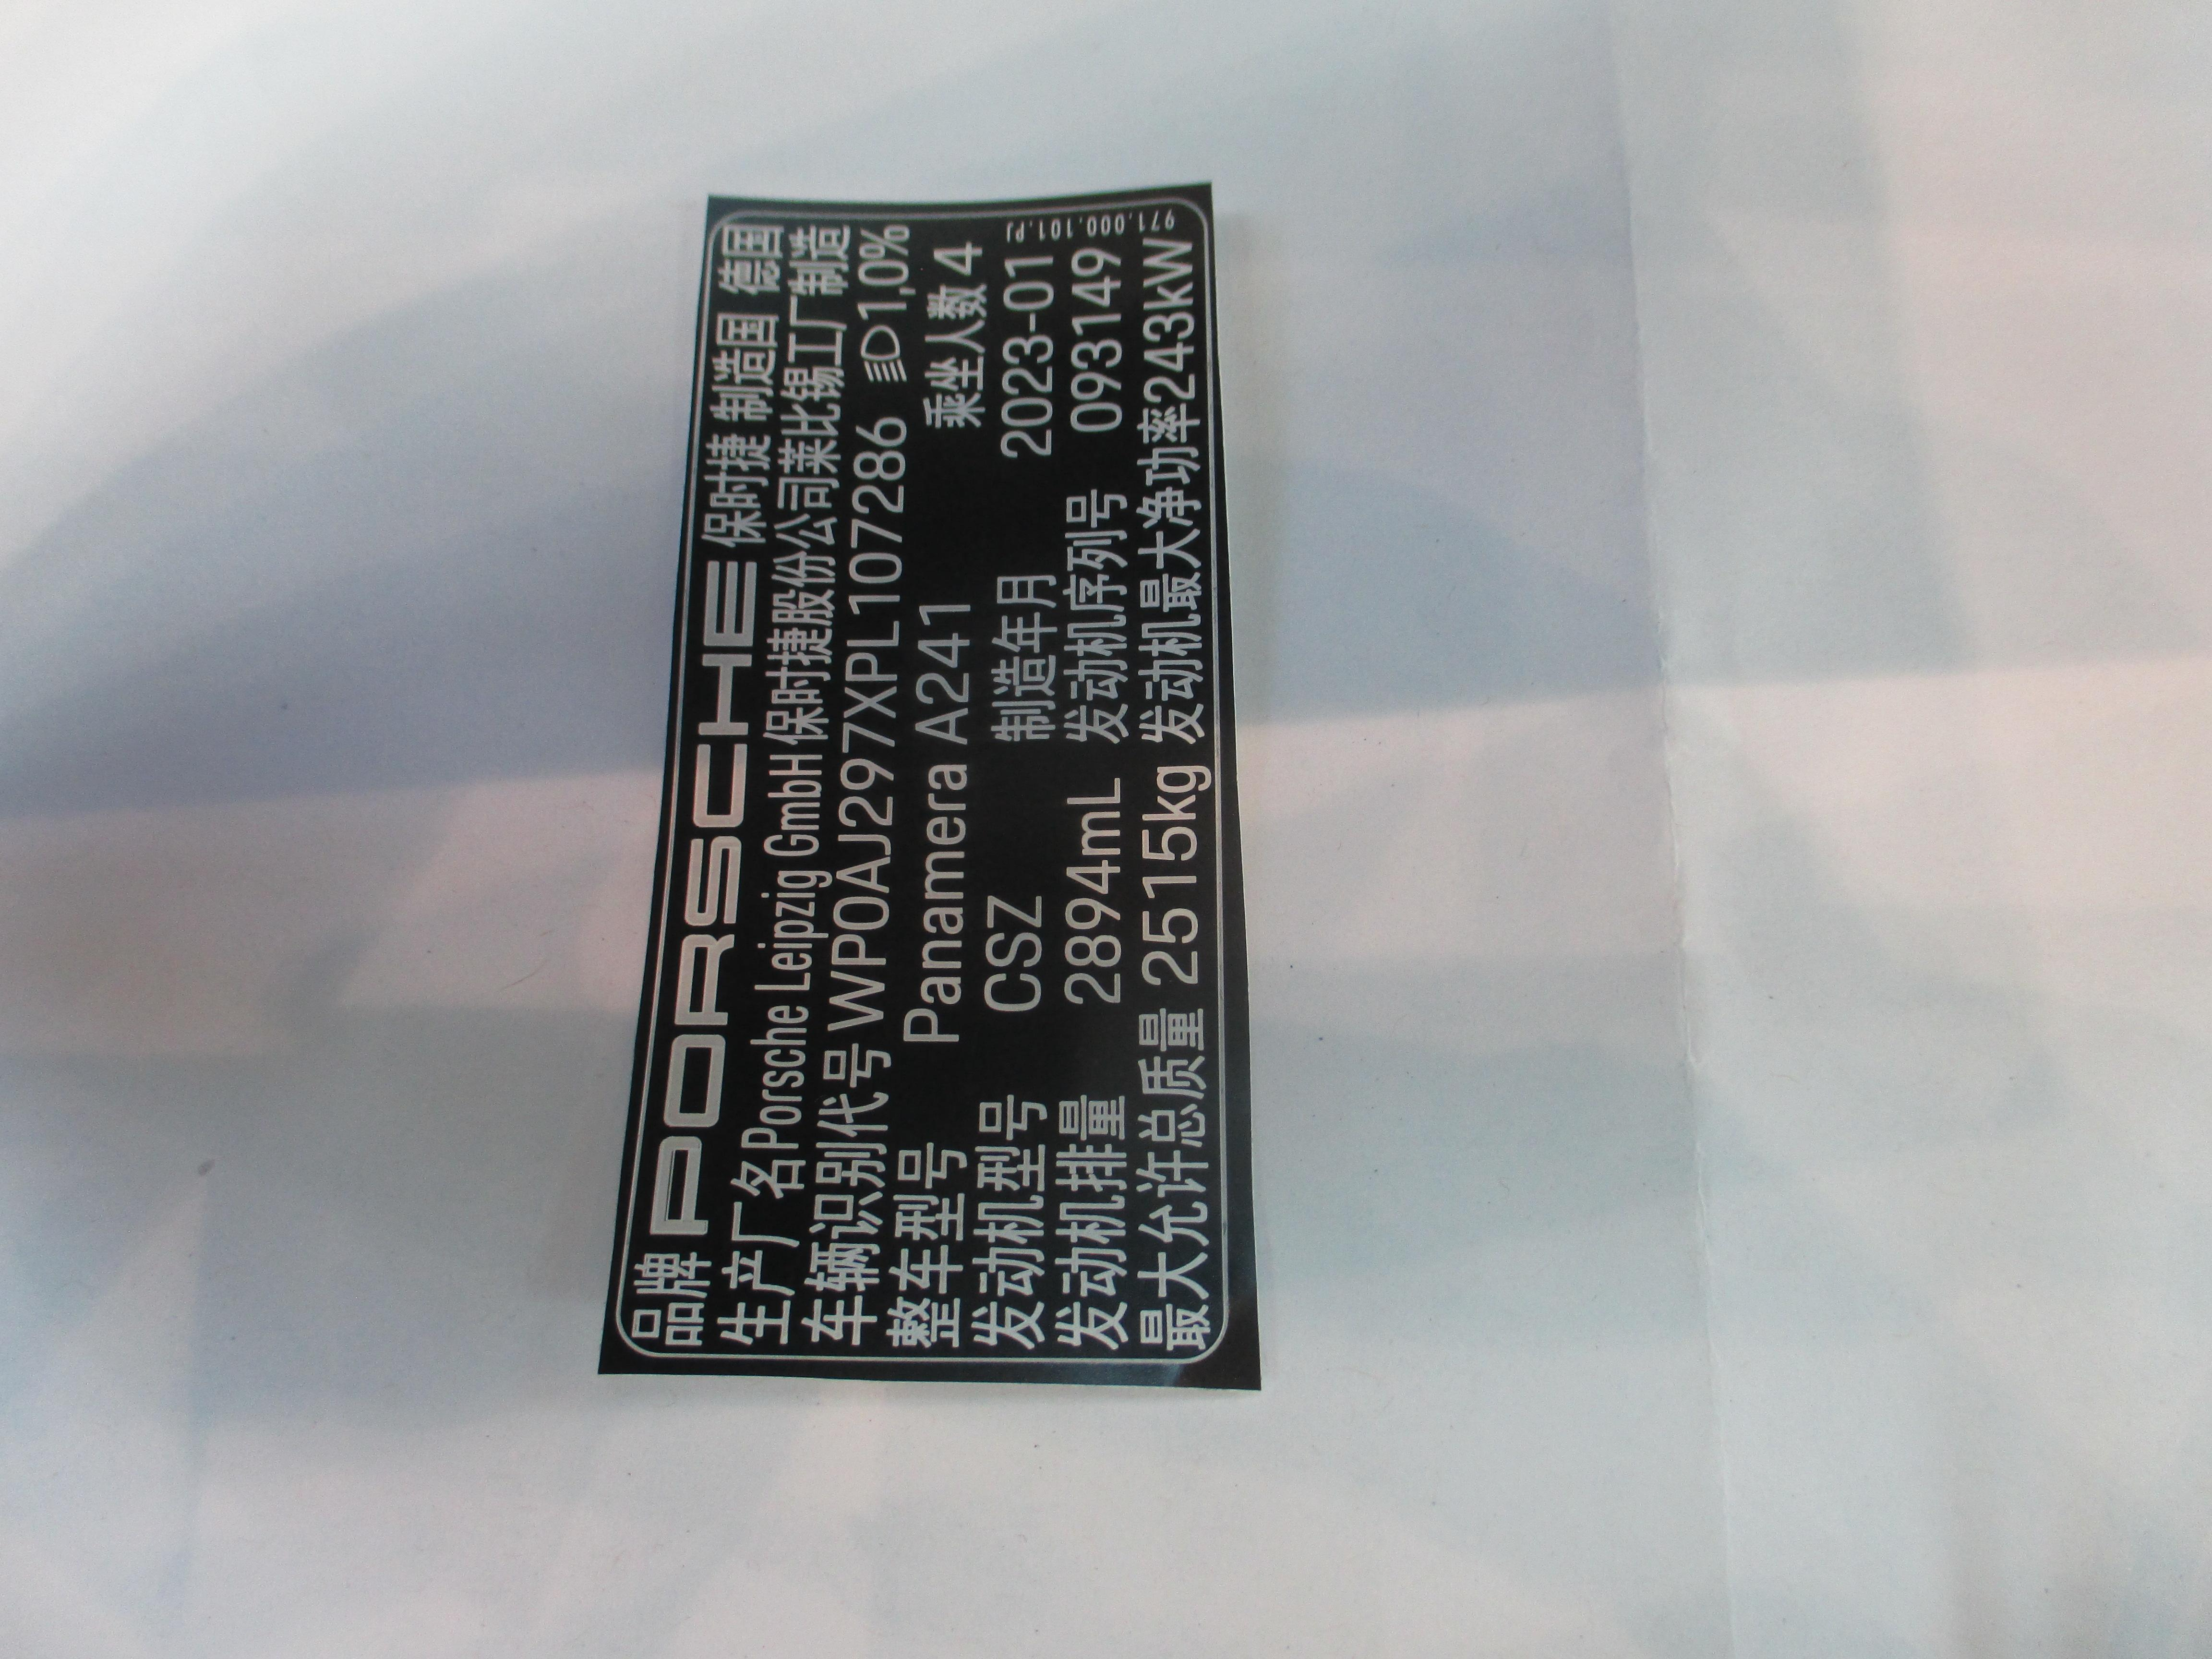Sign: (618, 199, 1230, 1364)
